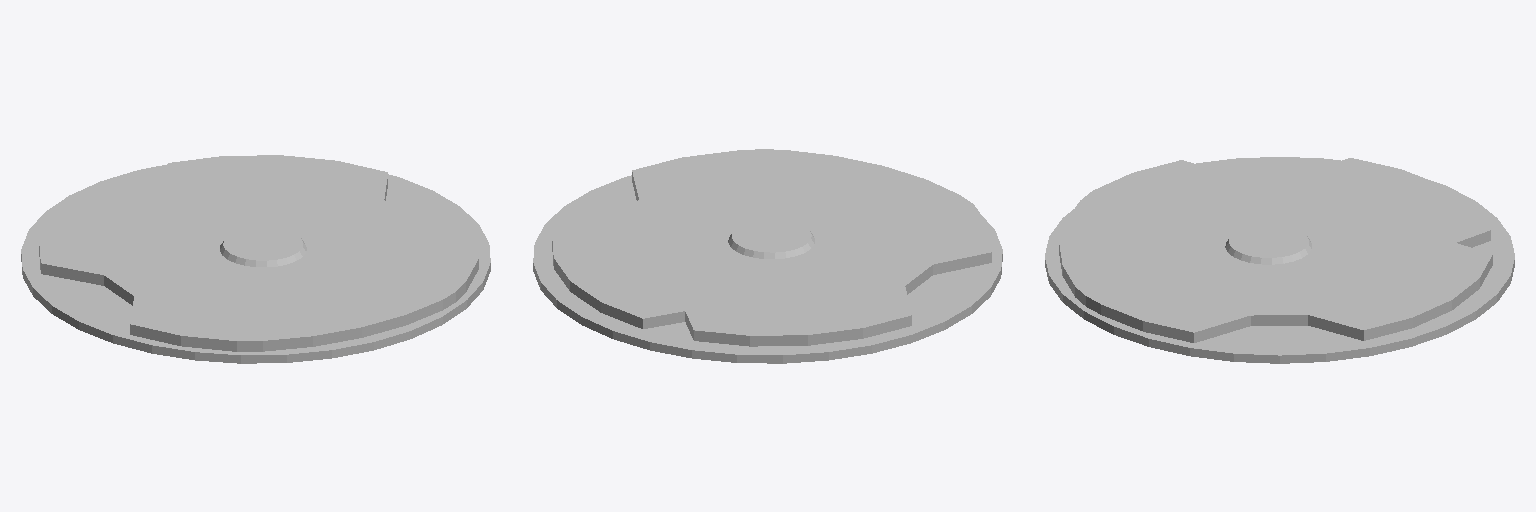
The model's file is dialFix.obj.
3 views of the same model, side by side, from view 1: azimuth 30°, elevation 25°; view 2: azimuth 150°, elevation 25°; view 3: azimuth 270°, elevation 25° (orthographic).
Visible parts, largest first — view 1: Cylinder; view 2: Cylinder; view 3: Cylinder.
Part boxes in pixels (x1,y1,x2,y2): Cylinder: (21, 155, 490, 363); Cylinder: (533, 149, 1002, 363); Cylinder: (1045, 157, 1514, 363).
Size of the model in its own units: 3.23 by 0.24 by 3.23.